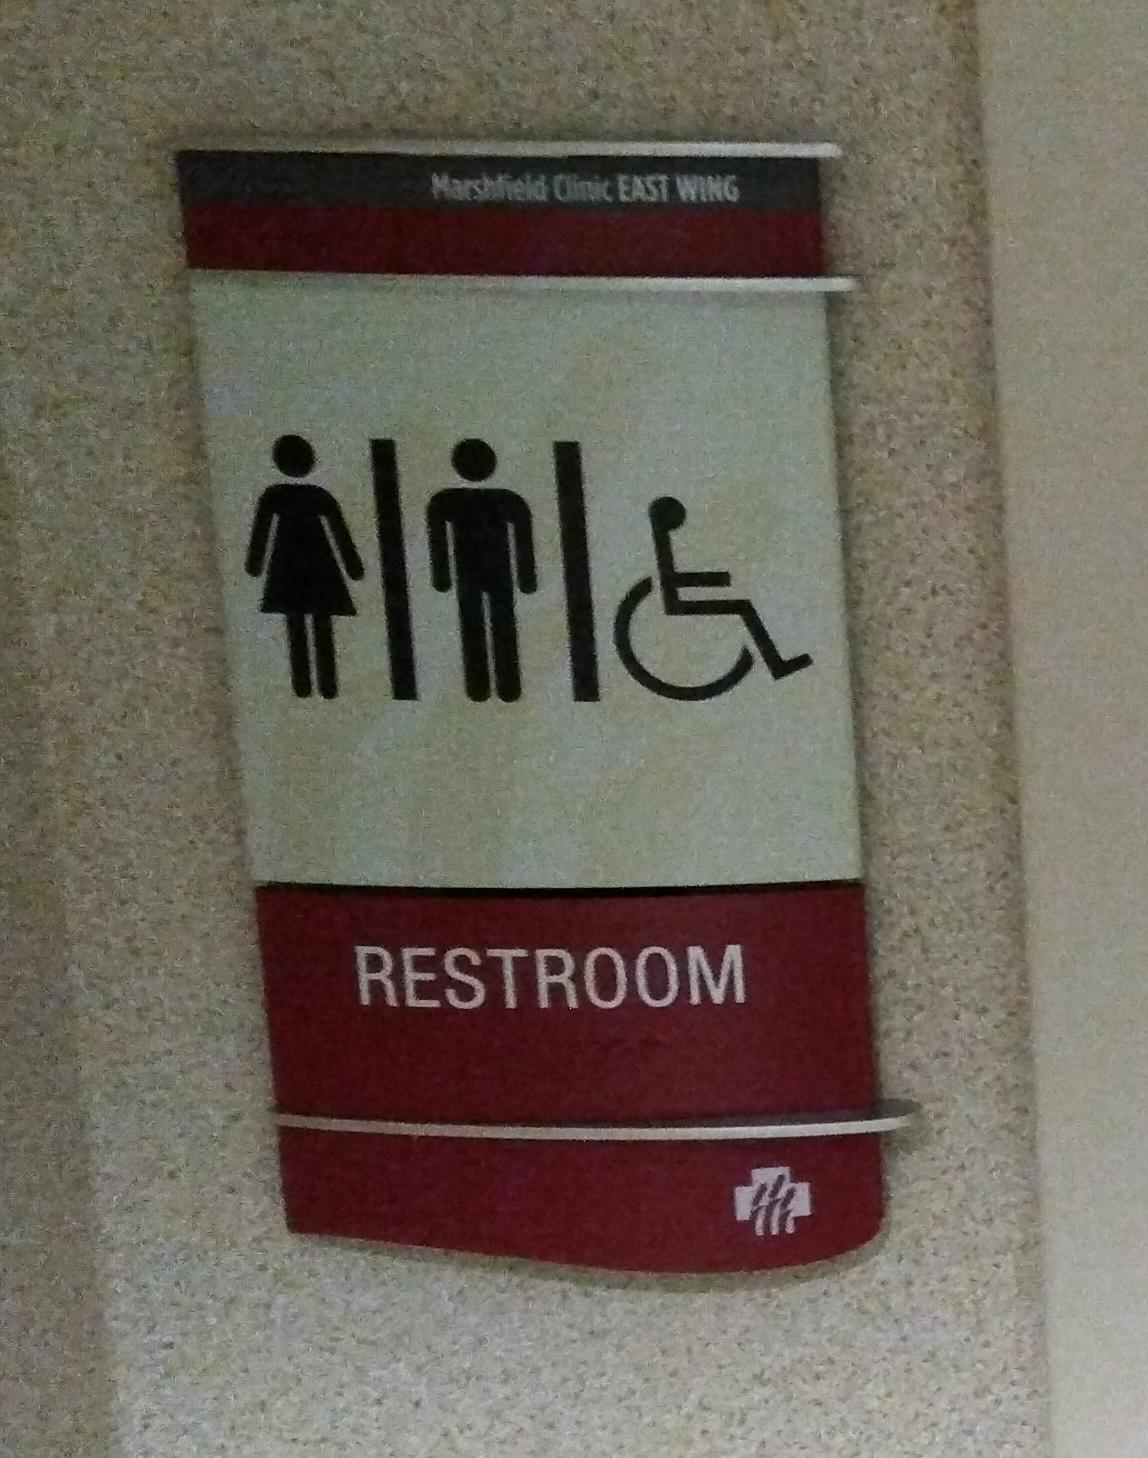sign: (168, 140, 918, 1276)
